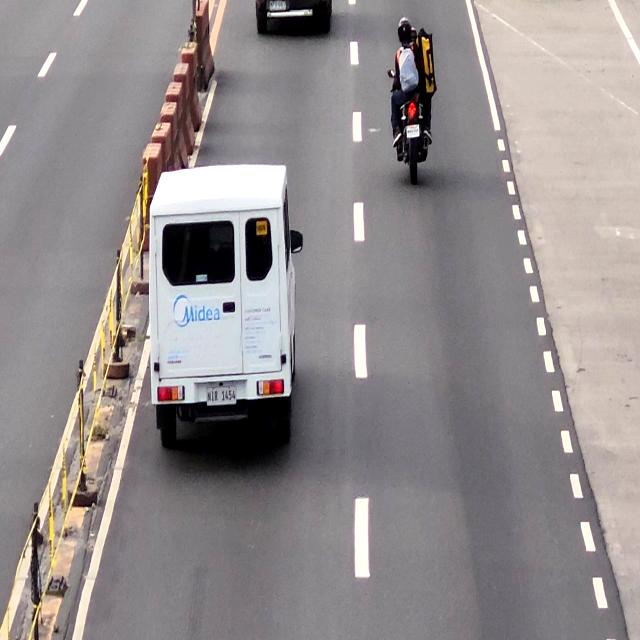Car: (155, 159, 290, 458)
License-Plate: (208, 387, 237, 407), (406, 124, 420, 137)
Motorcycle: (392, 18, 430, 185)
